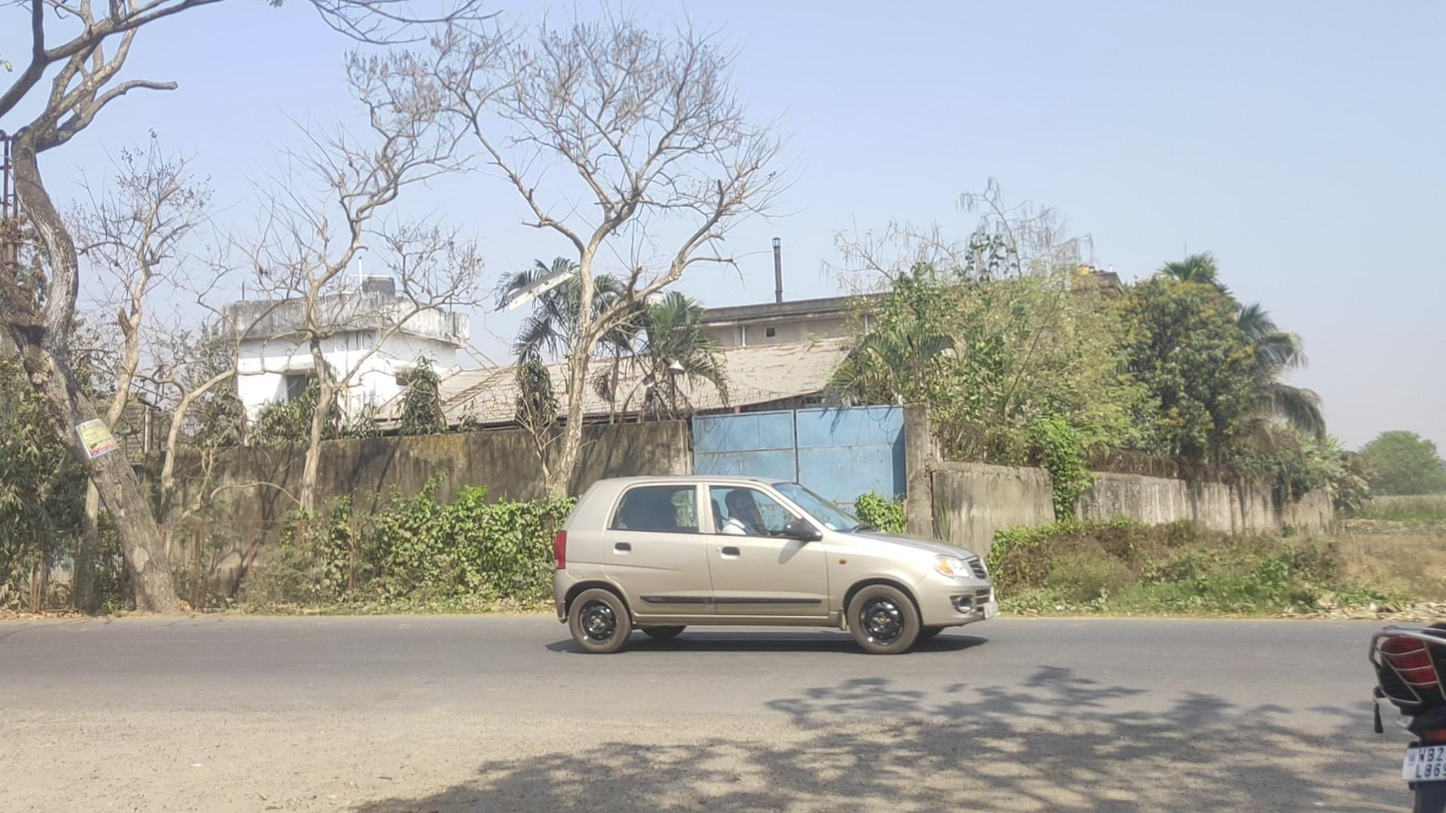car: (552, 473, 997, 653)
